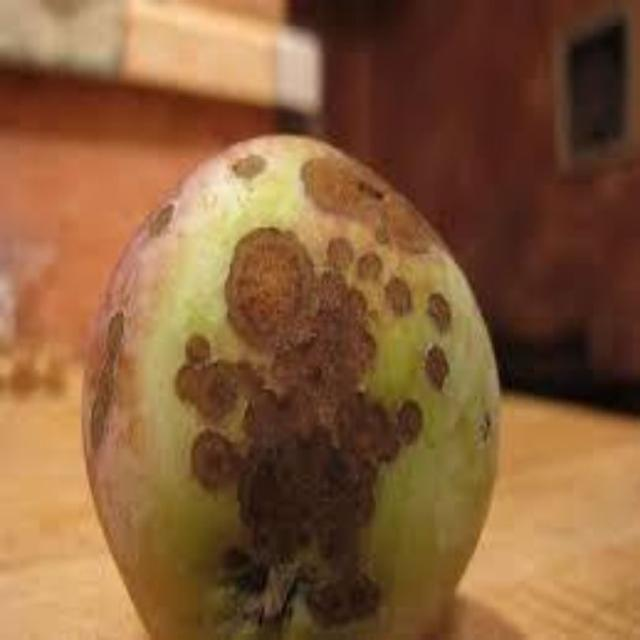Rotten Apple: (68, 112, 509, 633)
